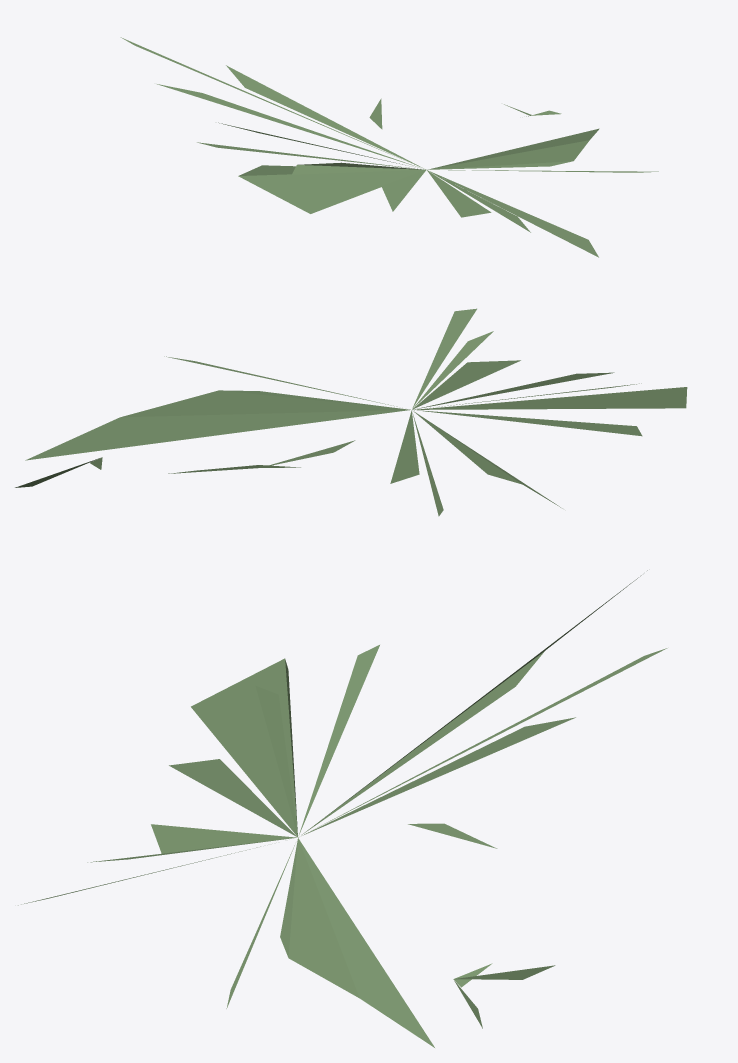
File: c_1666_17816_parks.glb
3 views of the same model, one above another, from view 1: azimuth 30°, elevation 25°; view 2: azimuth 150°, elevation 25°; view 3: azimuth 270°, elevation 25° (orthographic). The views are drawn at different scales.
Parts seen in each view (by area): view 1: geometry_0; view 2: geometry_0; view 3: geometry_0.
Boxes of the visible parts, bbox=[...] form: geometry_0: bbox=[120, 37, 658, 257]; geometry_0: bbox=[15, 308, 687, 516]; geometry_0: bbox=[18, 570, 667, 1047].
Size of the model in its own units: 312 by 87.71 by 296.
